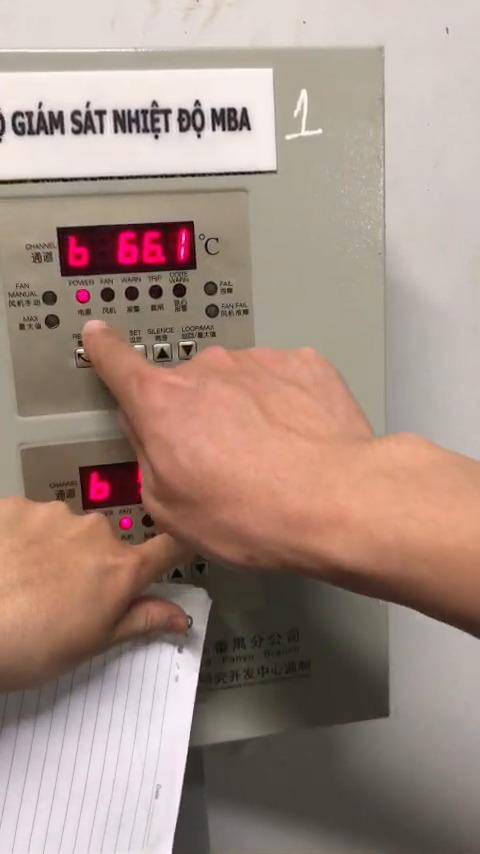led: (147, 283, 164, 300), (201, 280, 218, 296), (44, 313, 60, 330), (172, 283, 188, 299), (75, 288, 91, 304), (41, 289, 57, 305), (124, 285, 140, 300), (204, 303, 219, 319), (100, 287, 115, 302), (117, 516, 132, 531), (140, 513, 155, 527)
